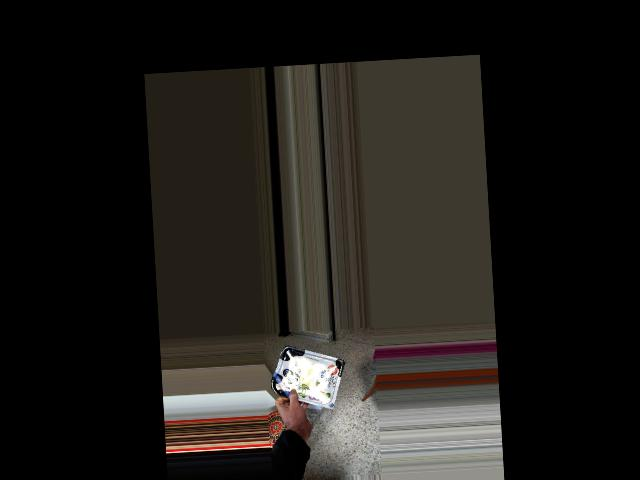cheese: (273, 350, 338, 400)
